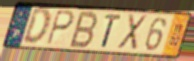6: (144, 16, 168, 53)
B: (67, 10, 100, 49)
D: (21, 7, 52, 47)
P: (45, 9, 76, 47)
T: (100, 13, 123, 49)
X: (115, 13, 149, 53)
